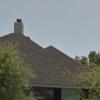Chimney: (9, 7, 29, 38)
